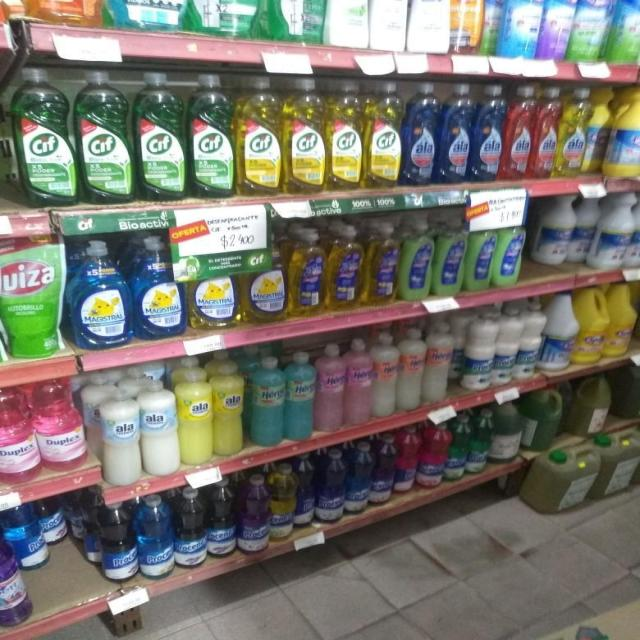ala_conc_amarillo: (559, 87, 586, 179), (21, 0, 97, 26)
ala_conc_azul: (404, 82, 439, 187), (440, 83, 472, 185), (473, 84, 504, 183)
ala_conc_rojo: (505, 85, 534, 182), (534, 86, 558, 180)
ala_crem_amarillo: (179, 357, 212, 466), (213, 357, 245, 458)
ala_crem_blanco: (100, 384, 140, 486), (142, 374, 178, 476)
cif_conc_bot_amarilla: (237, 75, 282, 198), (284, 77, 326, 196), (328, 79, 363, 194), (366, 81, 402, 190), (453, 0, 481, 55)
cif_conc_botella_verde: (14, 67, 75, 208), (78, 69, 132, 205), (136, 71, 187, 202), (189, 72, 234, 200)
heroe: (247, 354, 284, 448), (286, 351, 314, 442)
magistral_con_amarillo: (188, 245, 238, 331), (242, 234, 286, 325)
magistral_con_azul: (70, 239, 130, 350), (133, 235, 185, 340)
zorro: (289, 227, 325, 318), (327, 224, 362, 312), (365, 221, 398, 307), (400, 217, 432, 302), (434, 215, 464, 298)
